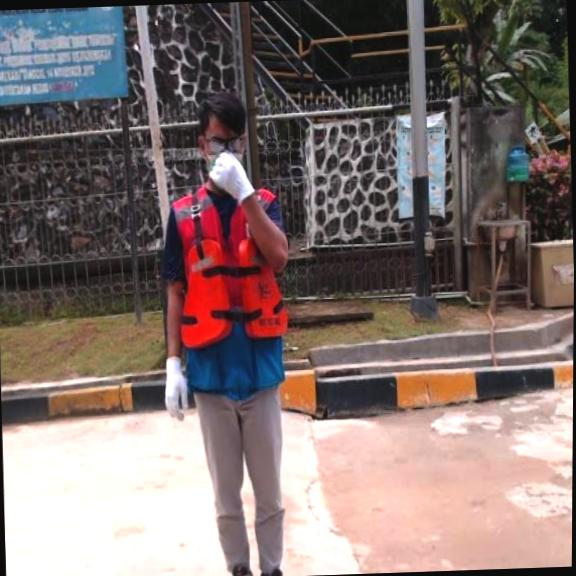safety_vest: (174, 231, 294, 351)
